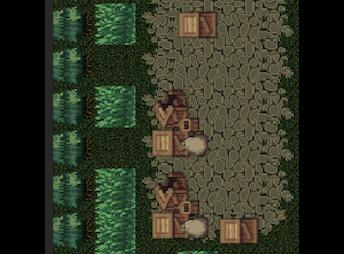Hide: (163, 0, 231, 56), (204, 197, 266, 254)
Obstacle: (142, 86, 210, 166), (143, 168, 212, 245), (54, 44, 94, 88), (54, 2, 94, 46), (54, 206, 93, 250), (55, 165, 94, 209), (56, 86, 95, 130), (56, 126, 94, 170)
Slow: (96, 85, 134, 126), (96, 210, 134, 250), (96, 170, 134, 210), (96, 4, 134, 44)
